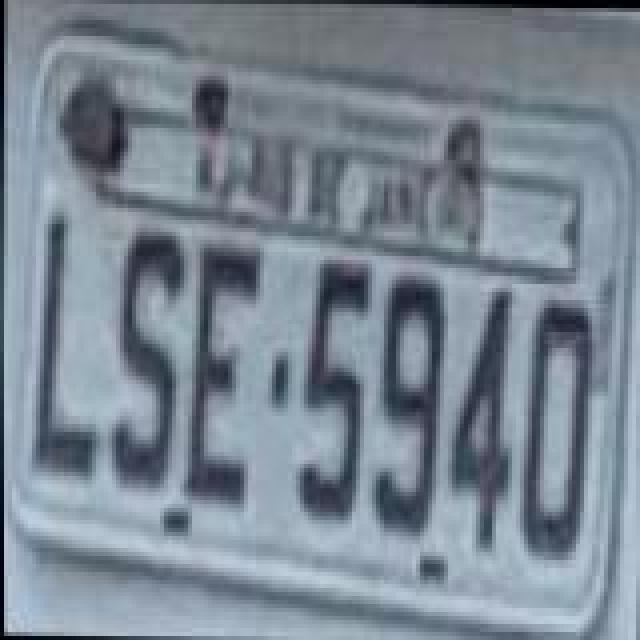4: (446, 286, 514, 554)
5: (298, 256, 374, 524)
9: (370, 270, 446, 538)
E: (188, 246, 264, 506)
L: (32, 218, 100, 486)
O: (518, 302, 594, 562)
S: (108, 226, 184, 486)
